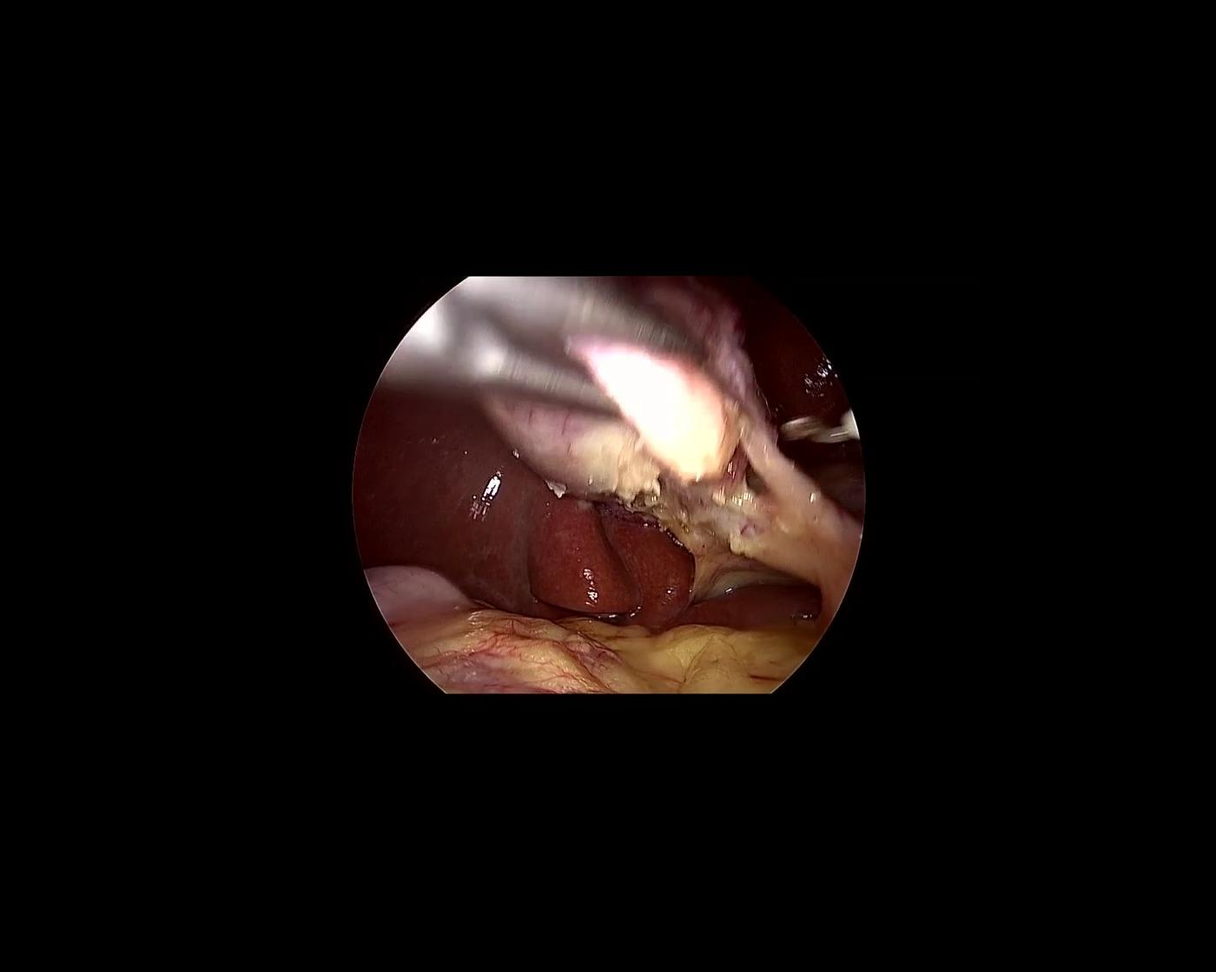Forceps: (378, 278, 724, 439)
Gallbladder: (472, 279, 758, 513)
Liver: (309, 369, 831, 761)
